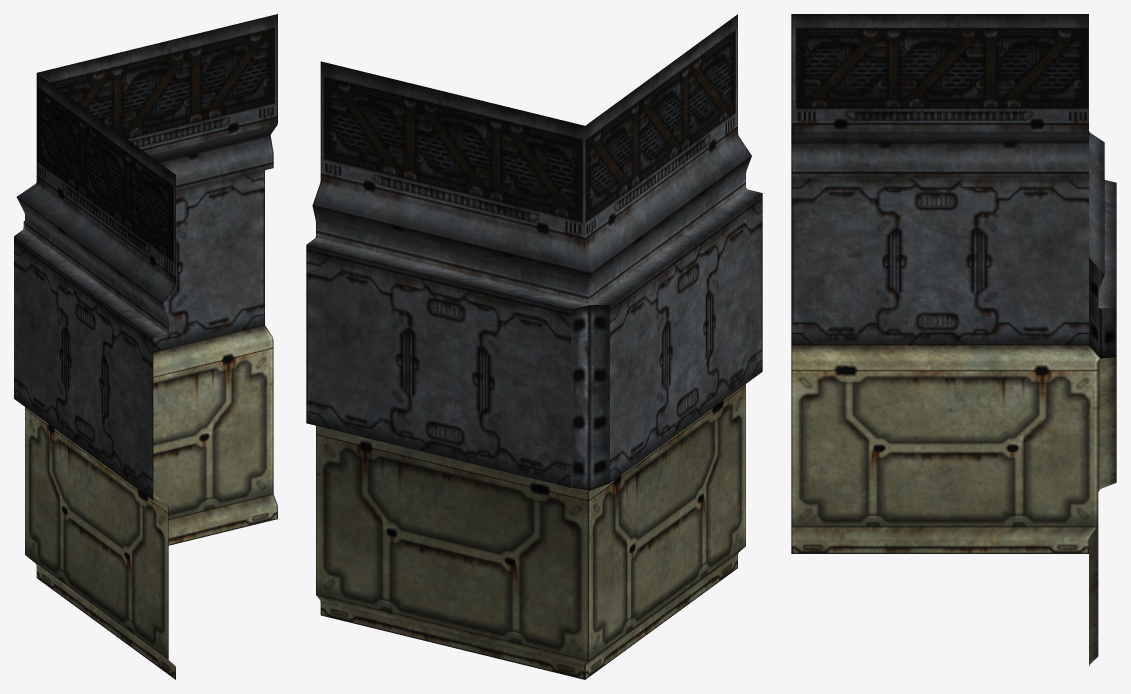
Rendered from living_area_flat01_corner_concave.dae.
The picture shows the model from 3 angles, left to right: view 1: azimuth 30°, elevation 25°; view 2: azimuth 150°, elevation 25°; view 3: azimuth 270°, elevation 25°; orthographic projection. The views are drawn at different scales.
Parts seen in each view (by area): view 1: polySurface11; view 2: polySurface11; view 3: polySurface11.
Part boxes in pixels (x1,y1,x2,y2): polySurface11: (14,14,277,679); polySurface11: (306,14,762,679); polySurface11: (791,14,1116,665).
Size of the model in its own units: 2.19 by 4 by 2.19.
